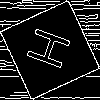H: (25, 25, 81, 75)
